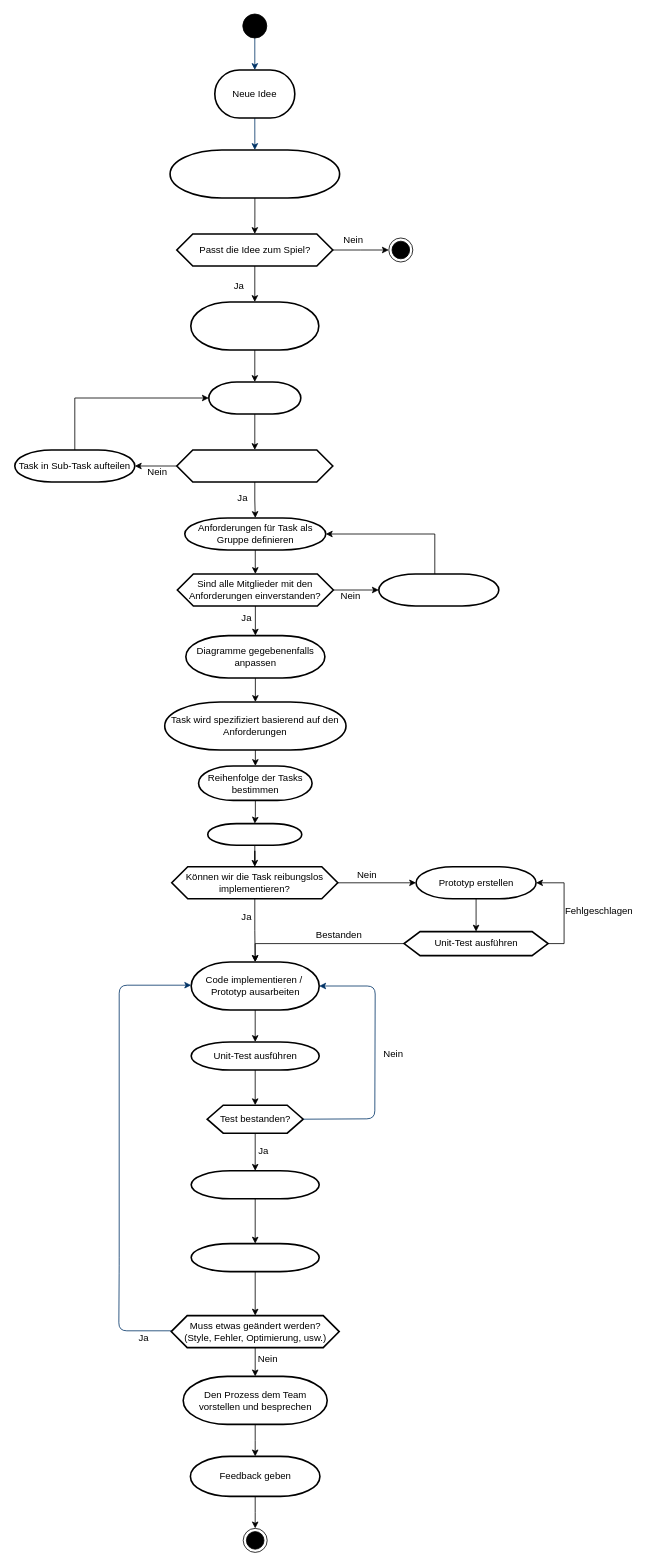
The diagram is 656 pixels wide and 1566 high, and some of its shapes have lost their labels. The centre of each missing label's shape, as x and y in pixels:
"Anforderung verbessern" belongs at (x=438, y=589).
"Dokumentation erstellen" belongs at (x=255, y=1184).
"Idee in der Gruppe besprechen" belongs at (x=254, y=173).
"Ideen im Team präziser definieren" belongs at (x=254, y=325).
"Peer-Review des Codes" belongs at (x=255, y=1257).
"Sind die Tasks in einem Tag implementierbar?" belongs at (x=254, y=465).
"Tasks erstellen" belongs at (x=254, y=397).
"Tests entwerfen" belongs at (x=254, y=834).
